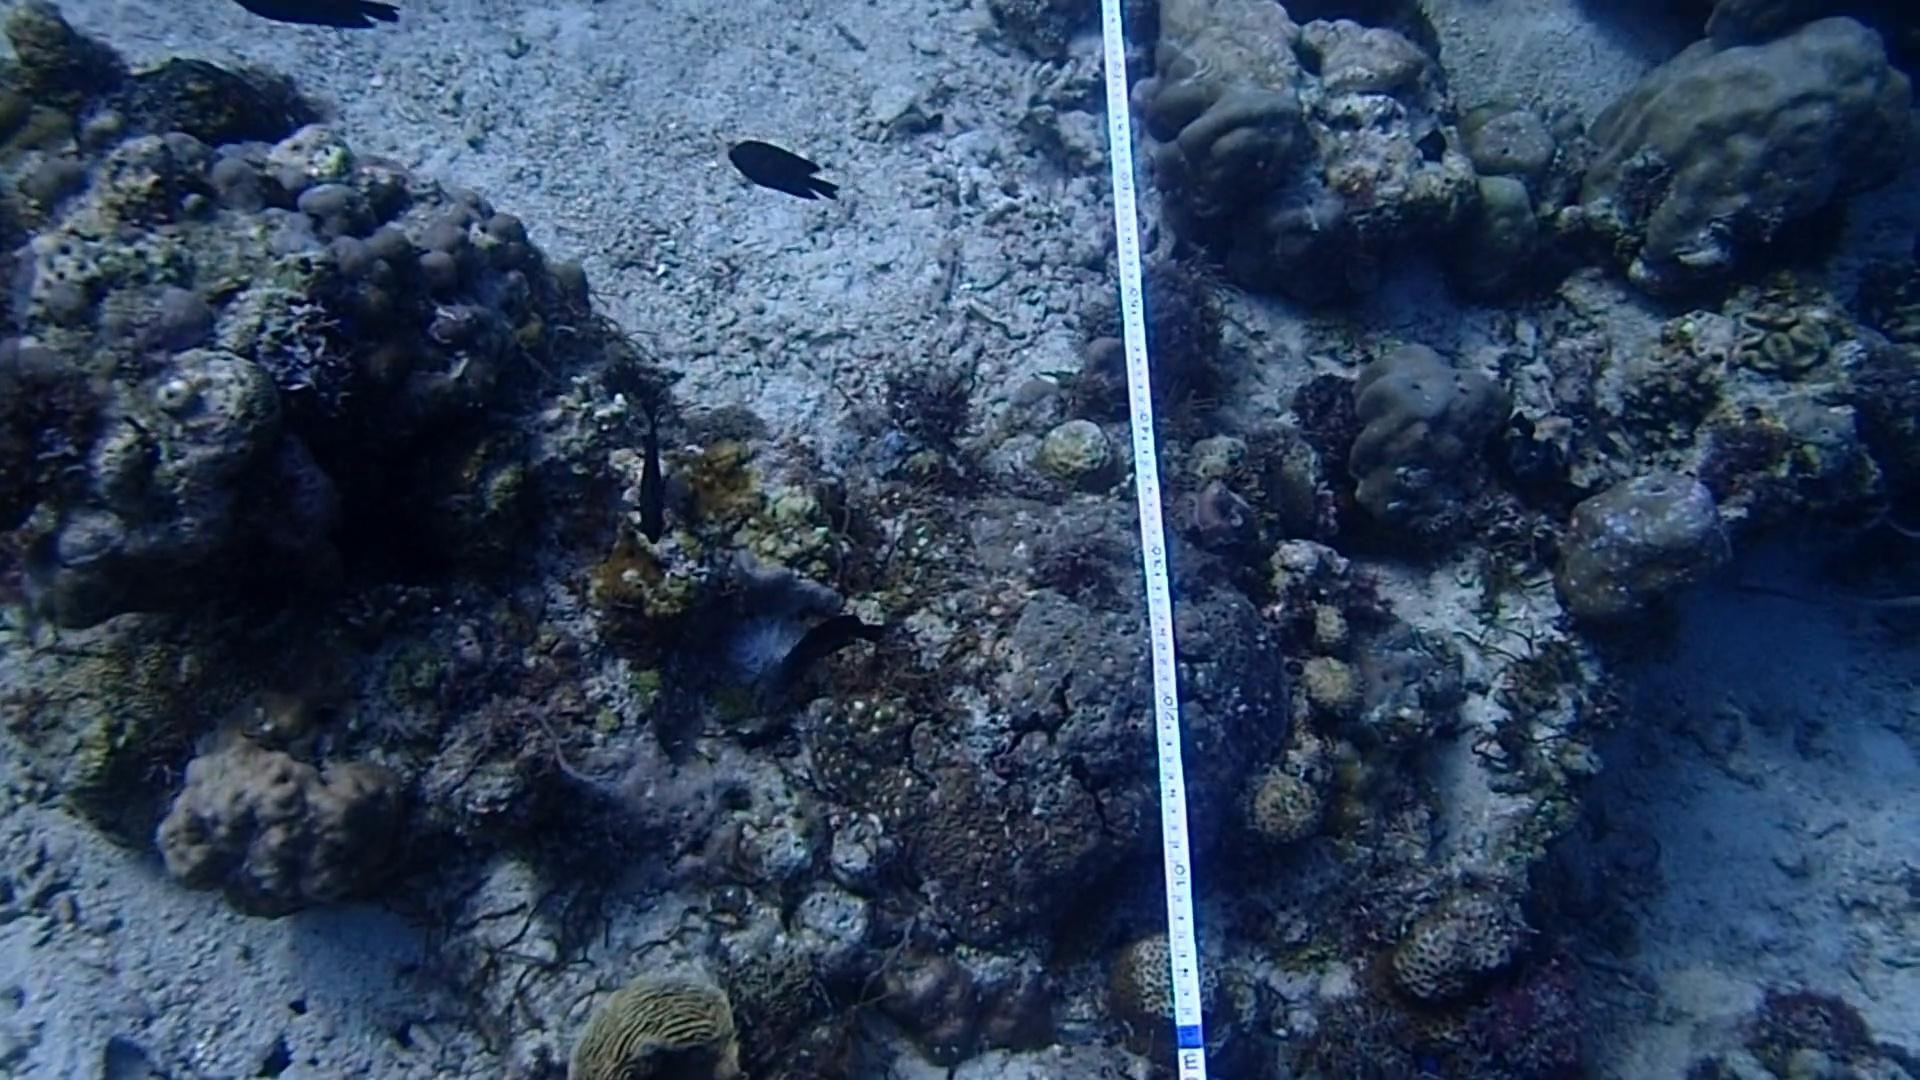Dark Fish: (752, 603, 897, 699), (716, 128, 845, 225), (616, 389, 675, 547), (224, 0, 406, 38)
